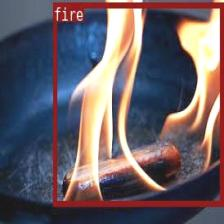fire: (53, 2, 222, 204)
